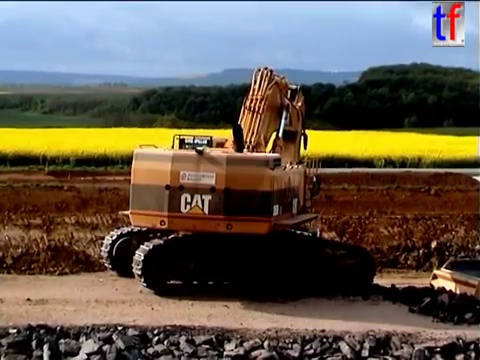excavator: (98, 63, 380, 302)
truck: (428, 256, 480, 309)
